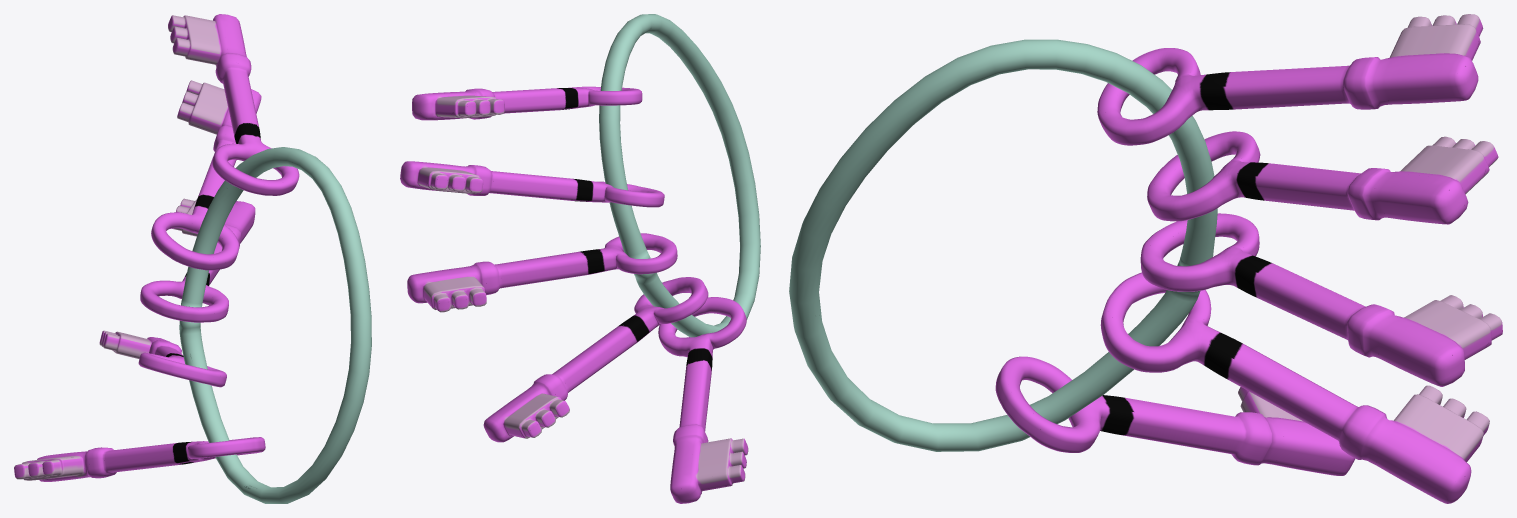
The model's file is Key.fbx.
3 views of the same model, side by side, from view 1: azimuth 30°, elevation 25°; view 2: azimuth 150°, elevation 25°; view 3: azimuth 270°, elevation 25° (orthographic). The views are drawn at different scales.
Parts seen in each view (by area): view 1: keyring, Key.002, Key.001, Key.004, Key, Key.003; view 2: keyring, Key.004, Key, Key.003, Key.001, Key.002; view 3: keyring, Key.003, Key.002, Key, Key.001, Key.004.
Boxes of the visible parts, <box> form: keyring: <box>179,147,371,503</box>; Key.002: <box>168,14,299,195</box>; Key.001: <box>151,80,261,270</box>; Key.004: <box>14,437,265,481</box>; Key: <box>140,198,255,322</box>; Key.003: <box>99,330,226,387</box>; keyring: <box>599,14,760,337</box>; Key.004: <box>658,297,748,503</box>; Key: <box>407,233,677,312</box>; Key.003: <box>483,277,708,442</box>; Key.001: <box>400,161,664,207</box>; Key.002: <box>412,86,642,120</box>; keyring: <box>789,39,1217,451</box>; Key.003: <box>1100,272,1489,503</box>; Key.002: <box>1097,14,1483,145</box>; Key: <box>1140,213,1502,386</box>; Key.001: <box>1147,131,1498,224</box>; Key.004: <box>995,356,1355,475</box>.
Size of the model in its own units: 602 by 770 by 856.
